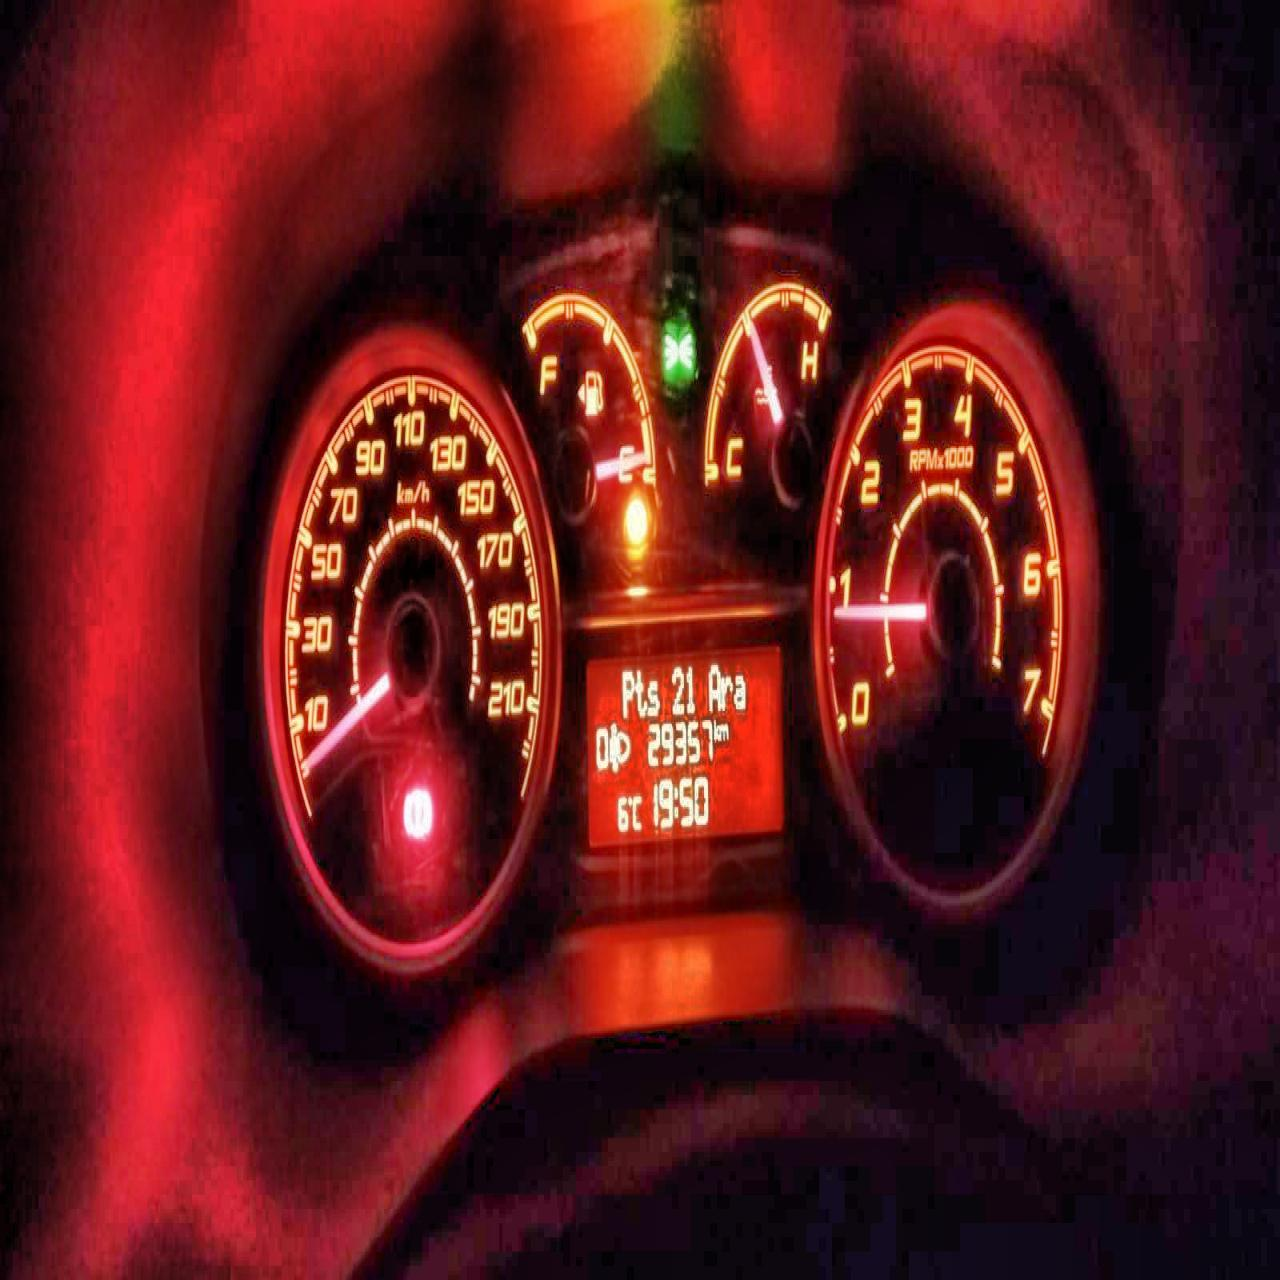0: (694, 771, 708, 829), (595, 722, 608, 771)
1: (686, 663, 696, 713), (652, 775, 658, 830)
2: (670, 663, 685, 716), (646, 720, 660, 768)
3: (674, 719, 687, 765)
5: (679, 774, 694, 831), (687, 716, 699, 763)
6: (615, 794, 628, 835)
7: (701, 715, 714, 761)
9: (658, 775, 673, 830), (661, 719, 674, 765)
X: (633, 665, 647, 719), (707, 659, 721, 713), (620, 667, 634, 719), (734, 670, 747, 713), (647, 675, 660, 716), (721, 670, 733, 709), (632, 789, 641, 832), (673, 778, 679, 822), (720, 720, 729, 740), (714, 716, 720, 742)
odometer: (584, 640, 787, 847)
